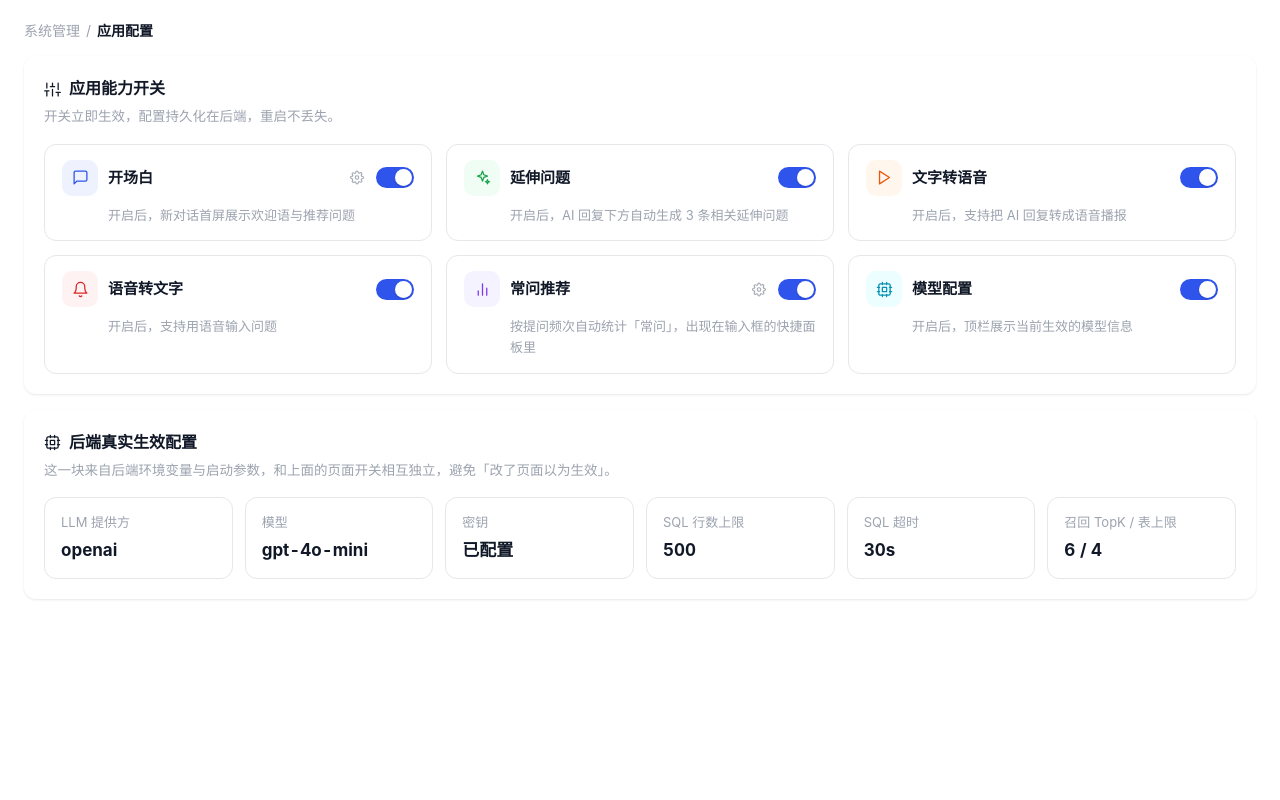
AppConfigPage — 能力开关 › 保存成功后给一条轻提示
Click the switch named "延伸问题" at (797, 178), box [778,167,816,188]
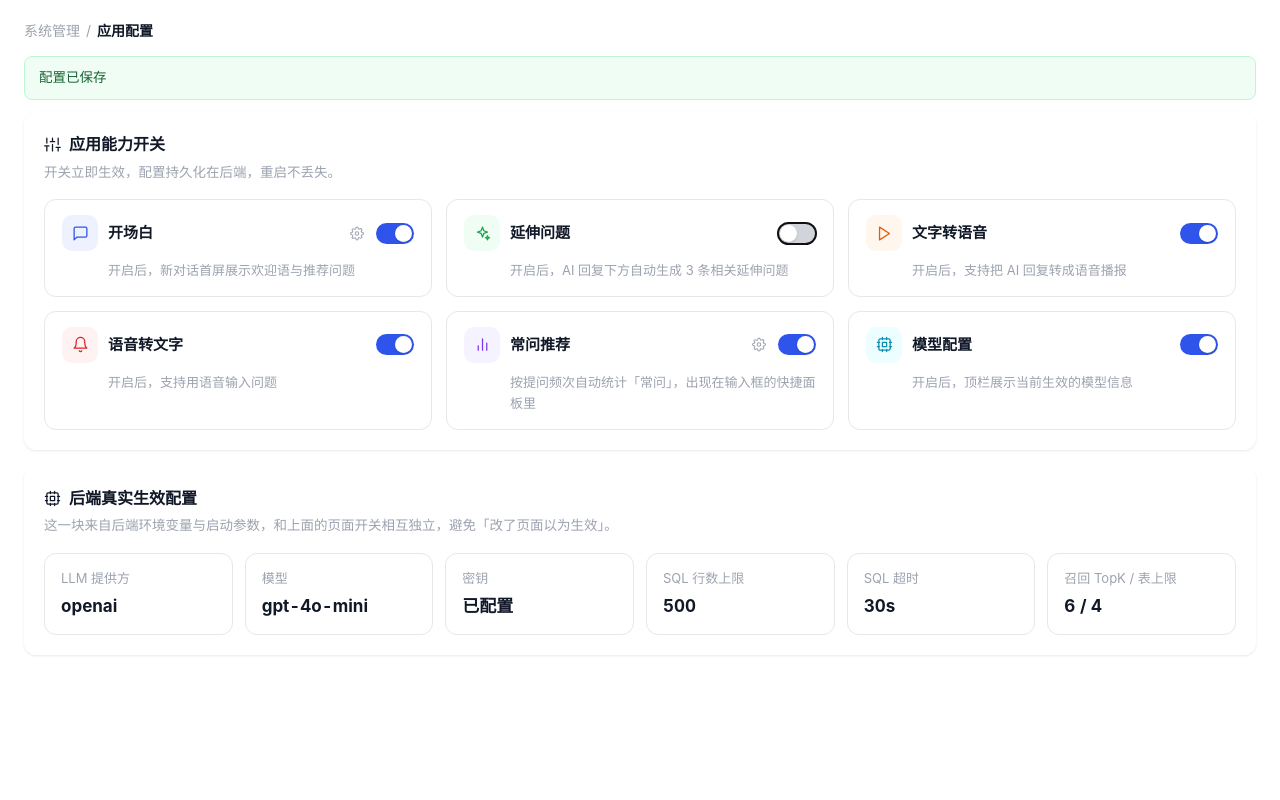
expect the text "配置已保存" is shown: met, box [24,56,1256,100]
